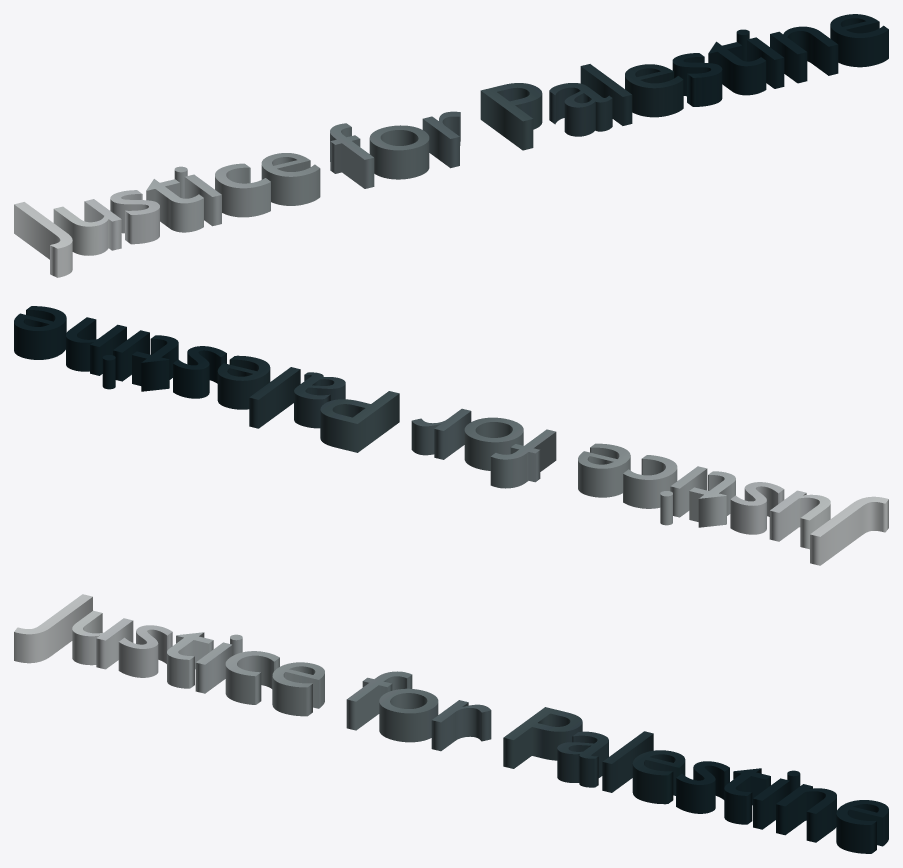
The picture shows the model from 3 angles, top to bottom: view 1: azimuth 30°, elevation 25°; view 2: azimuth 150°, elevation 25°; view 3: azimuth 330°, elevation 25°; orthographic projection.
Visible parts, largest first — view 1: 文字.009; view 2: 文字.009; view 3: 文字.009.
Boxes of the visible parts, x1,y1,x2,y2 form: 文字.009: [14, 14, 888, 277]; 文字.009: [14, 306, 888, 565]; 文字.009: [14, 594, 888, 853].
Bounding box in the file's own units: 7.94 × 0.26 × 0.9214.
Materials: 1 (1 with a texture image).
